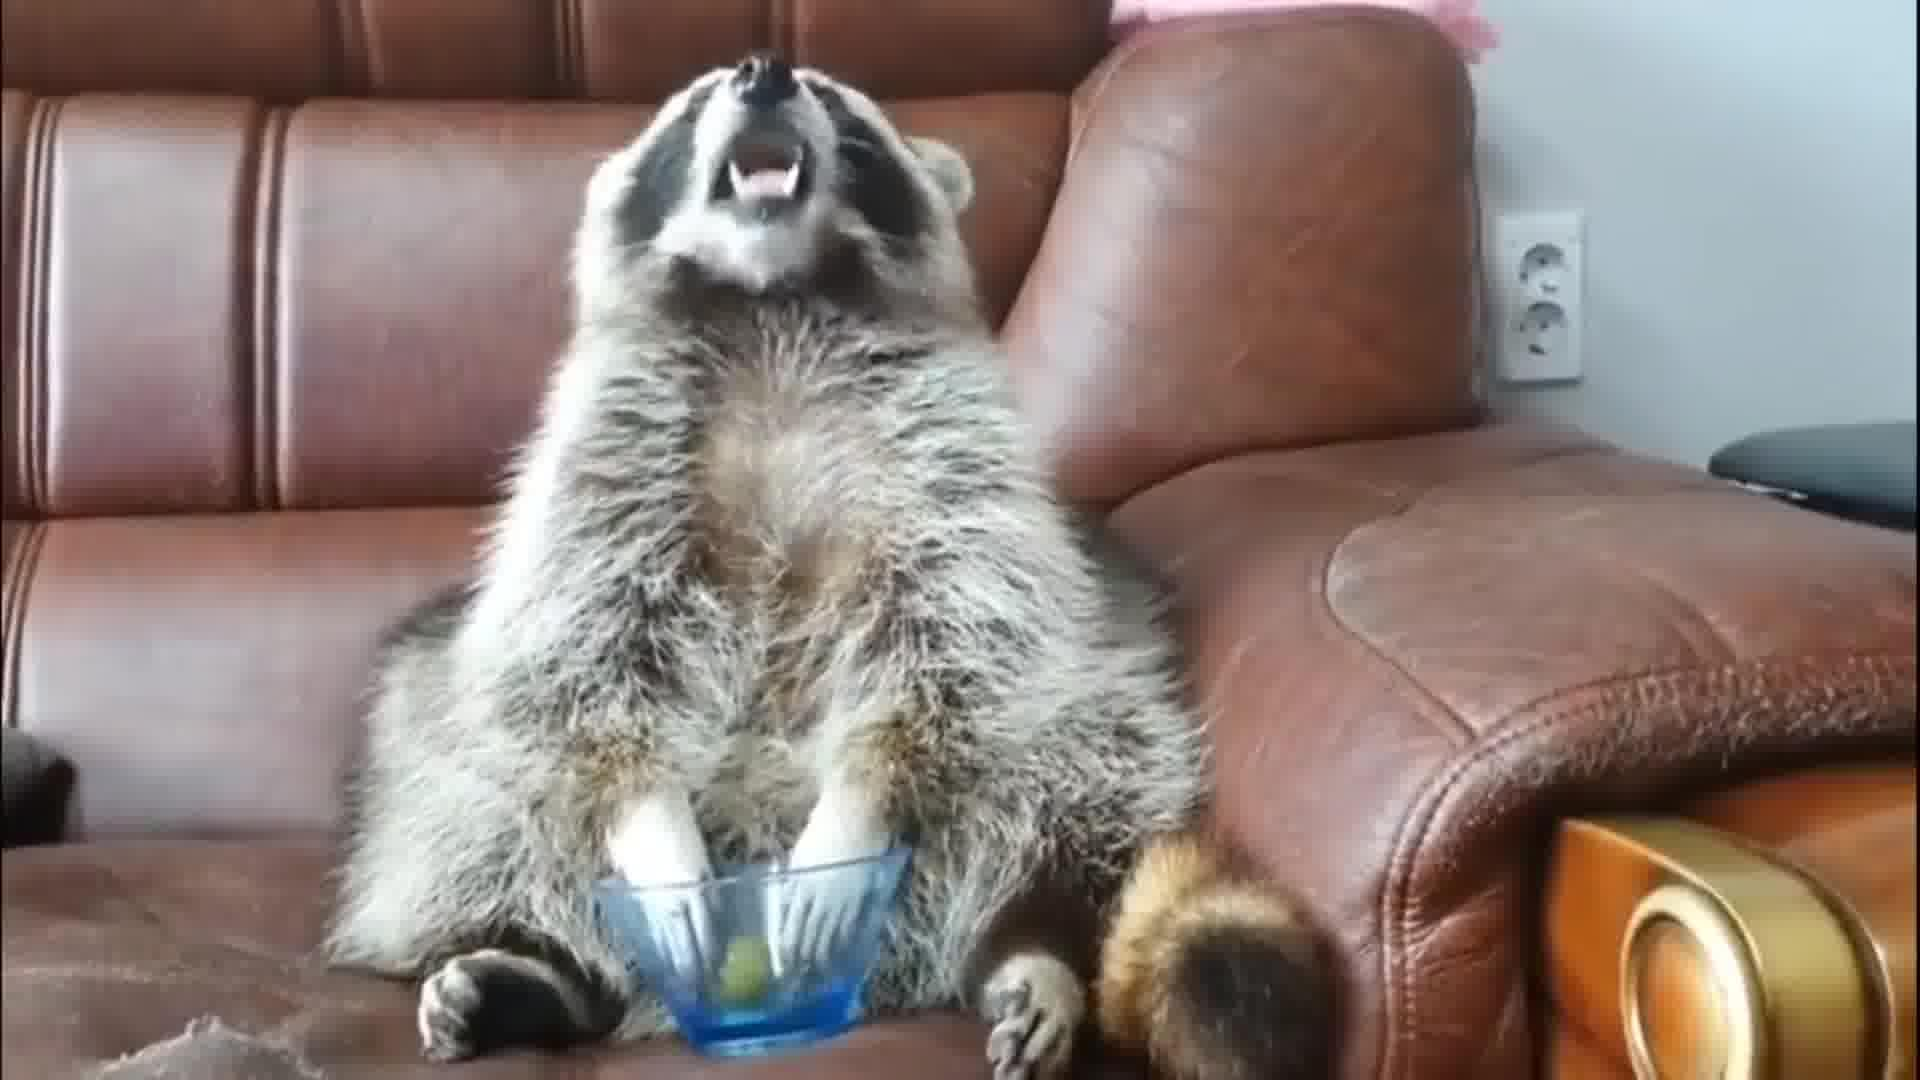raccoon: (321, 54, 1347, 1080)
